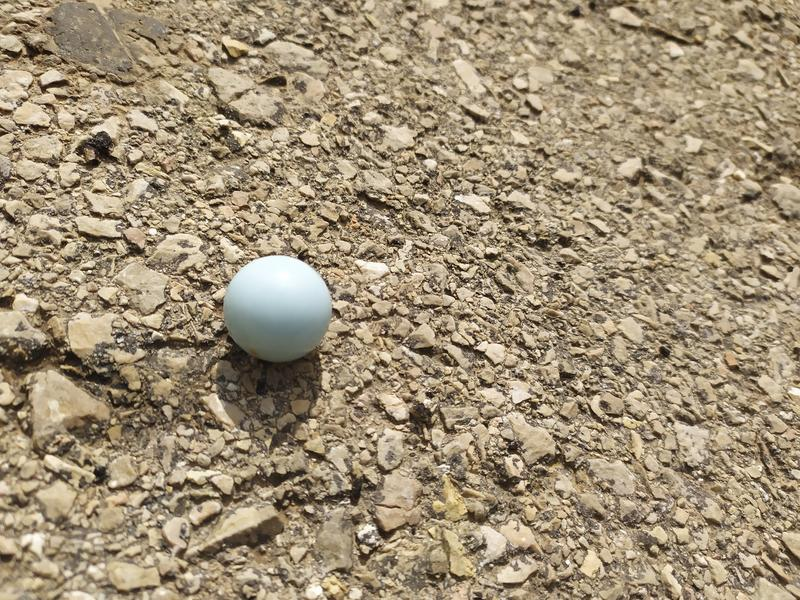Warning: (220, 252, 336, 366)
